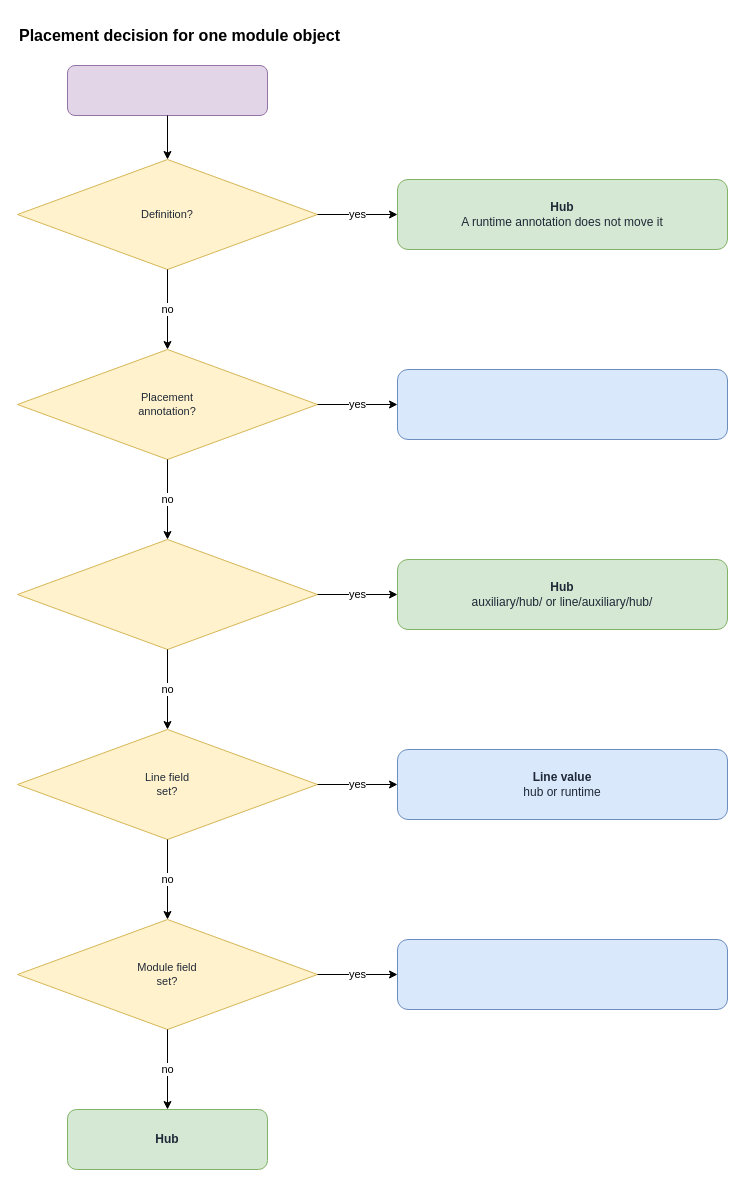
Some shapes in this 755 by 1187 pixel diagram are drawn without their labels. The shapes that lost their labels are listed below. From the top down, each one's centre as x and y in pixels, then its label:
At (x=167, y=90): "Module object".
At (x=562, y=404): "Annotation value hub or runtime, also in hub/".
At (x=167, y=594): "File directly in hub/?".
At (x=562, y=974): "Module value hub or runtime".
